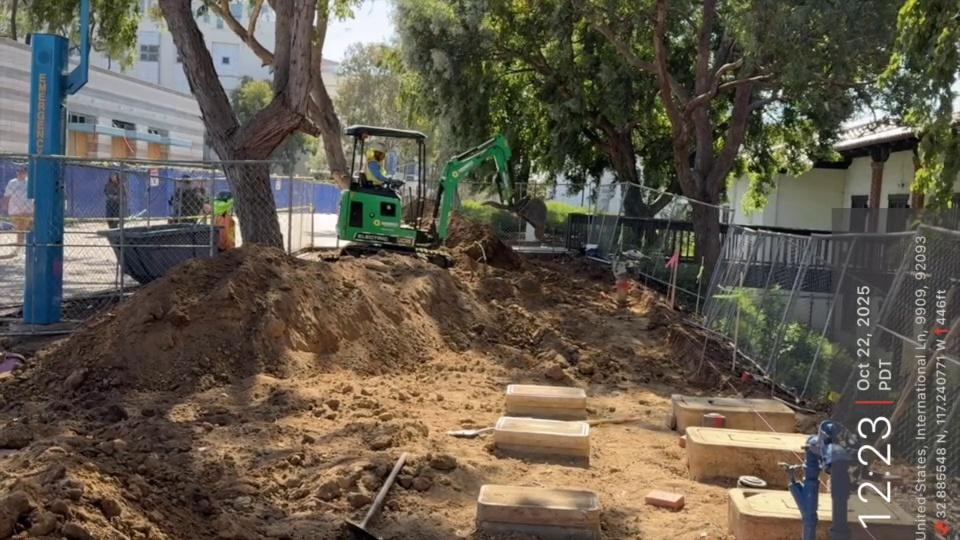Exacavator: (319, 123, 548, 269)
